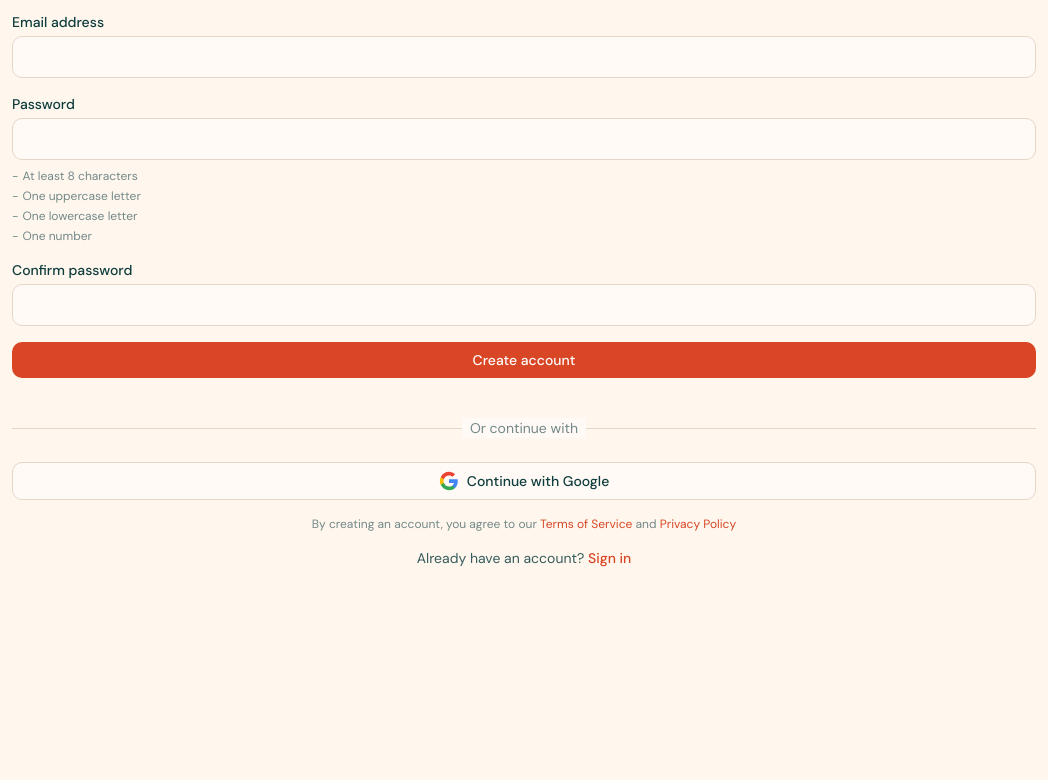
it: components/auth/SignupForm › shows validation error for password without uppercase
Type "test@example.com" into the field labelled "Email address" at (524, 57), box left=12, top=36, right=1036, bottom=78
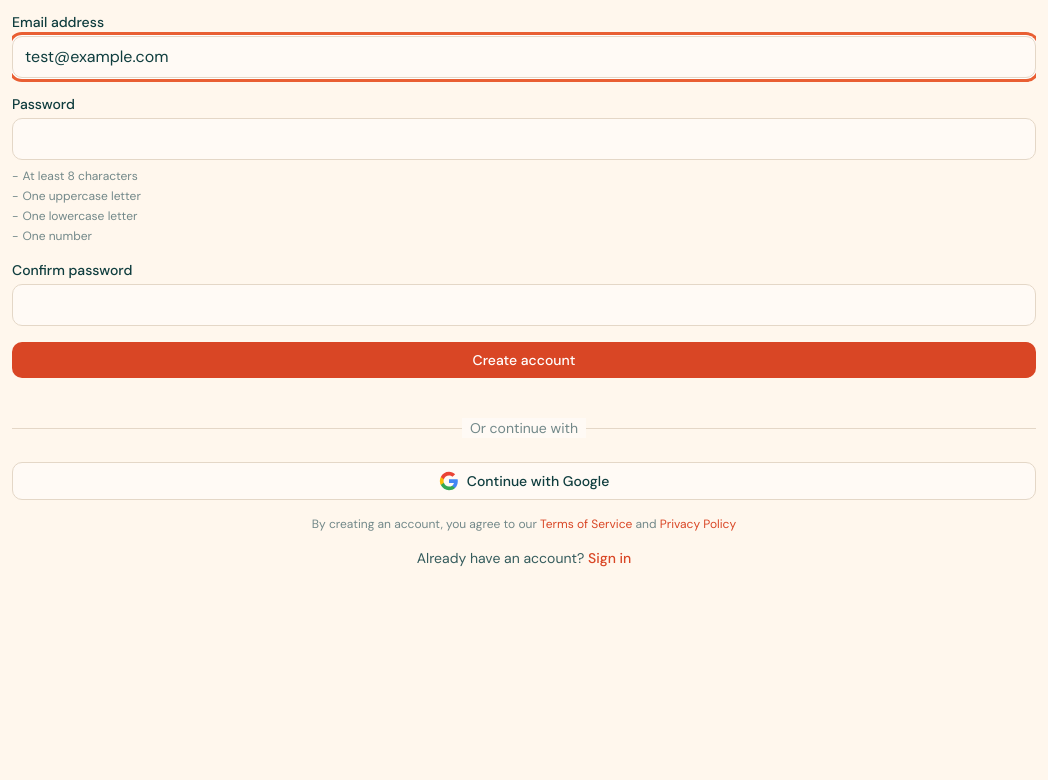
Type "password1" into the password field labelled "Password" at (524, 139), box left=12, top=118, right=1036, bottom=160
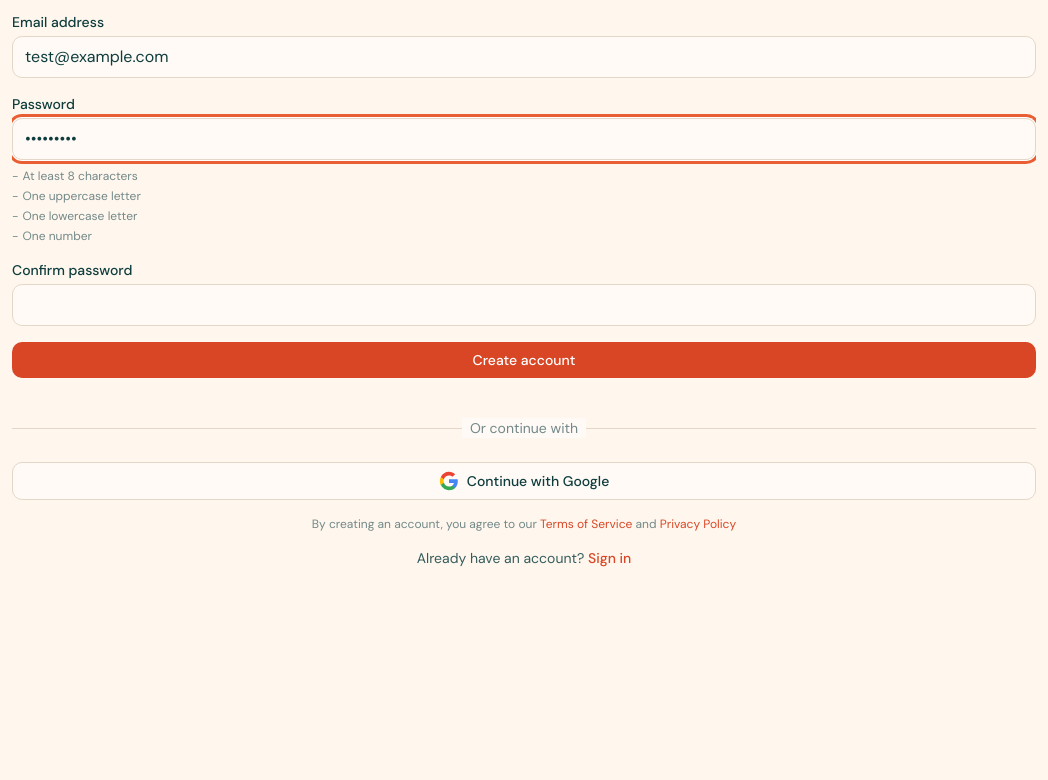
Type "password1" into the password field labelled "Confirm password" at (524, 305), box left=12, top=284, right=1036, bottom=326
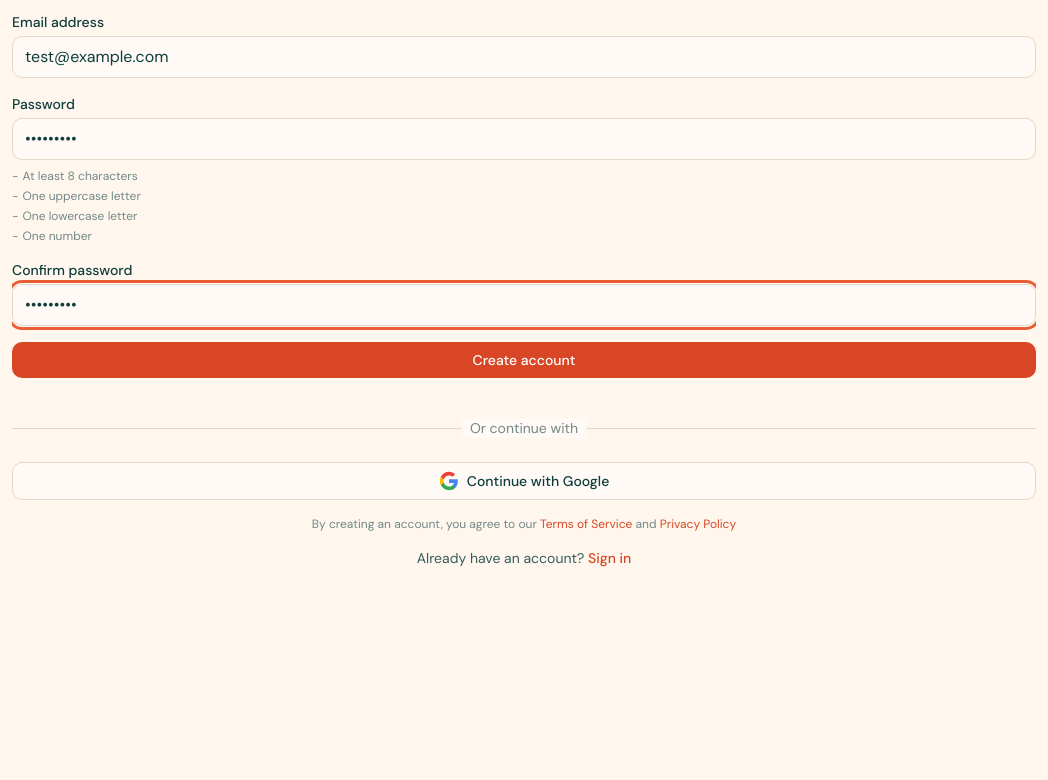
Click the button "Create account" at (524, 360), box left=12, top=342, right=1036, bottom=378
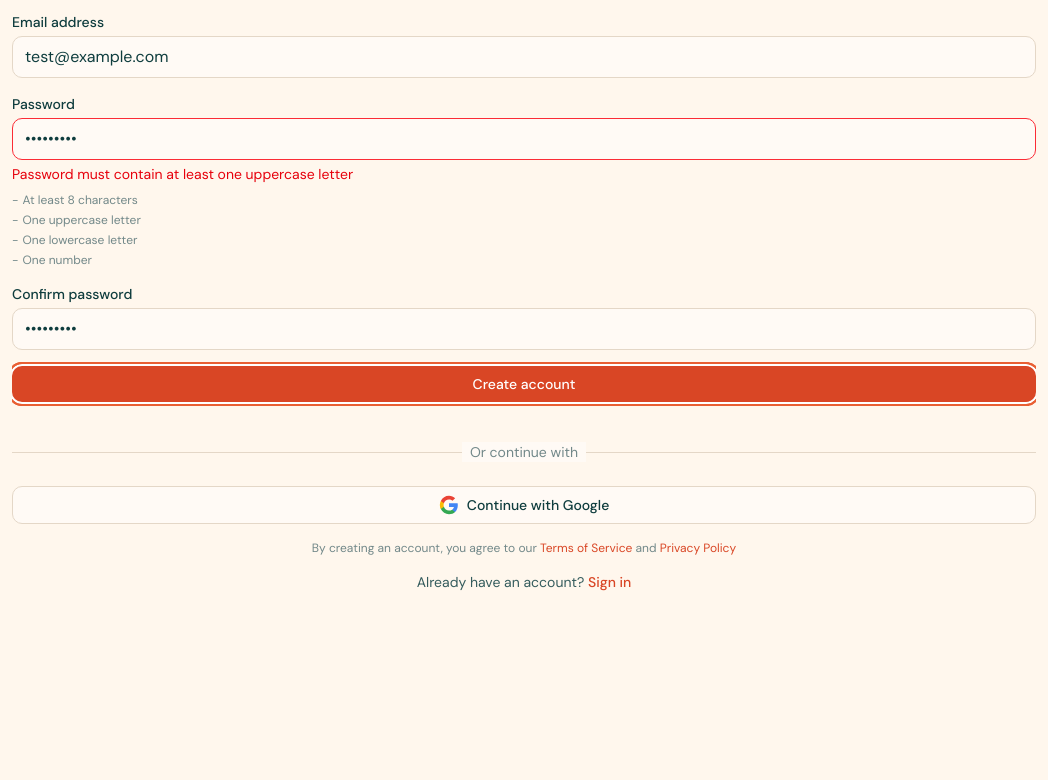
Result: the text "Password must contain at least one uppercase letter" is shown at left=12, top=165, right=353, bottom=183
